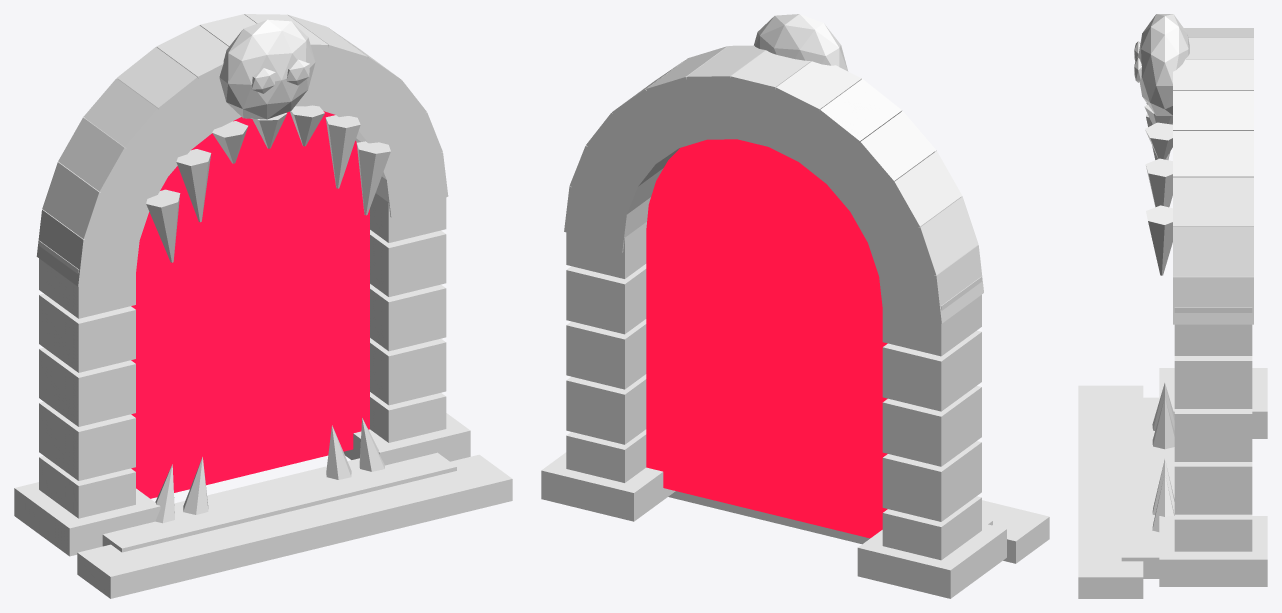
Rendered from portal.glb.
3 views of the same model, side by side, from view 1: azimuth 30°, elevation 25°; view 2: azimuth 150°, elevation 25°; view 3: azimuth 270°, elevation 25° (orthographic). The views are drawn at different scales.
Visible parts, largest first — view 1: Red veil, Threshold.001, Threshold, Gate skull, Gate pier.002, Gate pier.001, Gate pier.003, Arch stone.010, Arch stone.008, Arch stone.011, Gate base, Arch stone.009 (+27 smaller); view 2: Red veil, Gate base, Gate pier.003, Gate pier.002, Gate pier.001, Arch stone.010, Arch stone.009, Arch stone.008, Arch stone.011, Gate base.001, Arch stone.012, Arch stone.007 (+17 smaller); view 3: Threshold.001, Threshold, Gate base.001, Gate pier.006, Gate pier.007, Gate pier.008, Arch stone.001, Arch stone.002, Arch stone.003, Gate skull, Arch stone, Arch stone.004 (+13 smaller).
Boxes of the visible parts, <box> form: Red veil: <box>131,111,369,498</box>; Threshold.001: <box>77,454,512,598</box>; Threshold: <box>102,452,456,552</box>; Gate skull: <box>219,19,315,119</box>; Gate pier.002: <box>39,347,135,426</box>; Gate pier.001: <box>39,401,135,480</box>; Gate pier.003: <box>39,293,135,372</box>; Arch stone.010: <box>58,117,170,213</box>; Arch stone.008: <box>117,47,223,154</box>; Arch stone.011: <box>42,162,149,247</box>; Gate base: <box>14,482,160,556</box>; Arch stone.009: <box>83,78,191,182</box>; Red veil: <box>646,139,887,538</box>; Gate base: <box>857,523,1006,598</box>; Gate pier.003: <box>882,330,981,411</box>; Gate pier.002: <box>882,386,981,466</box>; Gate pier.001: <box>882,441,981,521</box>; Arch stone.010: <box>847,151,962,249</box>; Arch stone.009: <box>822,111,936,217</box>; Arch stone.008: <box>793,79,901,187</box>; Arch stone.011: <box>868,196,978,282</box>; Gate base.001: <box>541,452,675,521</box>; Arch stone.012: <box>878,245,983,323</box>; Arch stone.007: <box>764,61,861,165</box>; Threshold.001: <box>1078,385,1143,598</box>; Threshold: <box>1121,397,1174,578</box>; Gate base.001: <box>1159,516,1267,586</box>; Gate pier.006: <box>1174,462,1252,514</box>; Gate pier.007: <box>1174,409,1252,461</box>; Gate pier.008: <box>1174,356,1252,408</box>; Arch stone.001: <box>1173,226,1253,276</box>; Arch stone.002: <box>1173,177,1253,226</box>; Arch stone.003: <box>1173,131,1253,177</box>; Gate skull: <box>1138,14,1189,115</box>; Arch stone: <box>1173,276,1253,324</box>; Arch stone.004: <box>1173,91,1253,130</box>.
Size of the model in its own units: 4.2 by 4.97 by 1.75.
